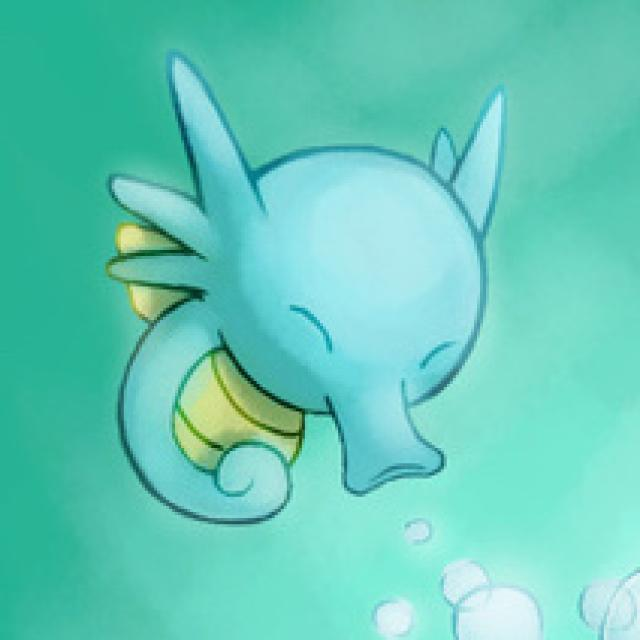Horsea: (99, 54, 523, 554)
